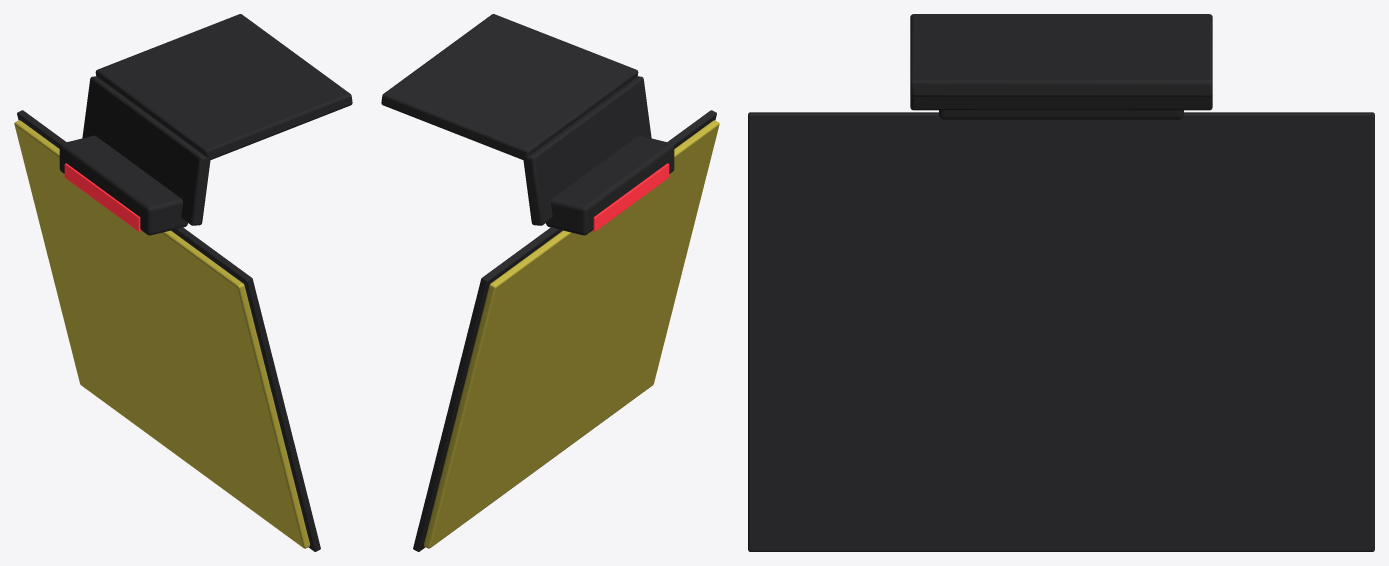
Rendered from tidy.glb.
3 views of the same model, side by side, from view 1: azimuth 30°, elevation 25°; view 2: azimuth 150°, elevation 25°; view 3: azimuth 270°, elevation 25° (orthographic). The views are drawn at different scales.
Visible parts, largest first — view 1: plate_hanger_tidy; view 2: plate_hanger_tidy; view 3: plate_hanger_tidy.
Boxes of the visible parts, left/top/right/bottom form: plate_hanger_tidy: left=14, top=14, right=352, bottom=551; plate_hanger_tidy: left=381, top=14, right=719, bottom=551; plate_hanger_tidy: left=748, top=14, right=1374, bottom=551.
Size of the model in its own units: 0.0857 by 0.1631 by 0.174.
